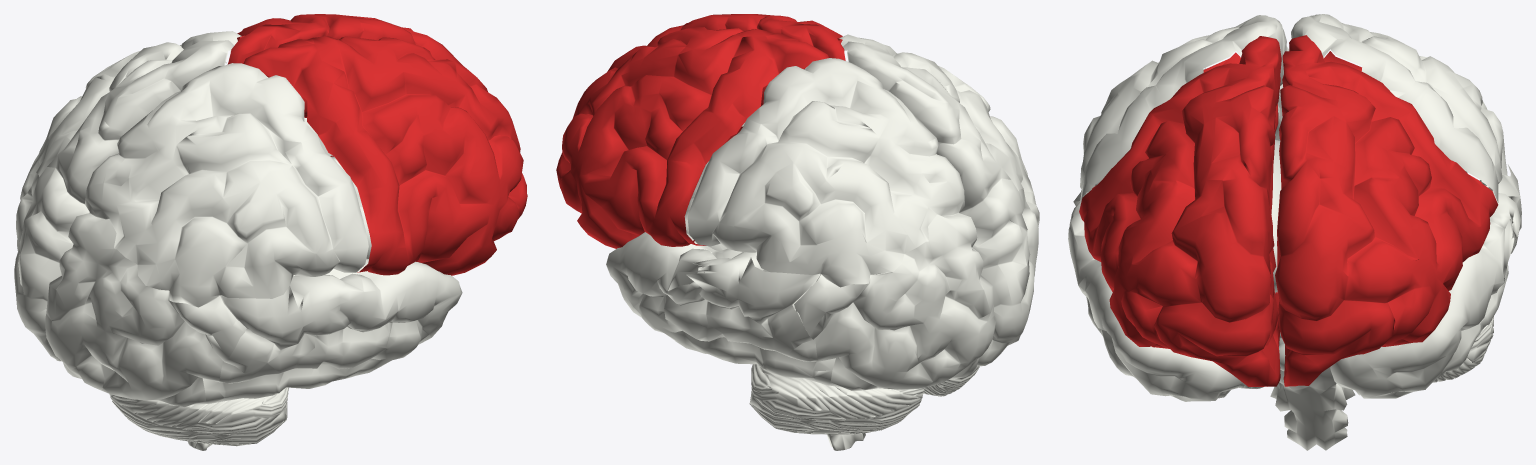
The model's file is brainmodel.glb.
3 renders of one model, left to right at view 1: azimuth 30°, elevation 25°; view 2: azimuth 150°, elevation 25°; view 3: azimuth 270°, elevation 25°, orthographic. The views are drawn at different scales.
Visible parts, largest first — view 1: Material2.002, Material2.006, Material2.005, Material2.001, Material2.009, Material2.004; view 2: Material2.002, Material2.006, Material2.005, Material2.001, Material2.009, Material2.004; view 3: Material2.006, Material2.002, Material2.001, Material2.004, Material2.009, Material2.008.
Boxes of the visible parts, <box> form: Material2.002: <box>28,31,368,307</box>; Material2.006: <box>228,14,527,275</box>; Material2.005: <box>14,167,246,406</box>; Material2.001: <box>192,258,462,404</box>; Material2.009: <box>109,387,288,446</box>; Material2.004: <box>187,117,371,450</box>; Material2.002: <box>687,34,1033,287</box>; Material2.006: <box>556,14,845,248</box>; Material2.005: <box>794,178,1039,390</box>; Material2.001: <box>606,232,841,387</box>; Material2.009: <box>749,309,979,434</box>; Material2.004: <box>684,133,865,450</box>; Material2.006: <box>1079,35,1498,386</box>; Material2.002: <box>1079,14,1507,208</box>; Material2.001: <box>1068,164,1521,401</box>; Material2.004: <box>1270,292,1355,450</box>; Material2.009: <box>1238,316,1493,388</box>; Material2.008: <box>1271,140,1281,292</box>.
Bounding box in the file's own units: 5.68 × 4.87 × 4.61.
